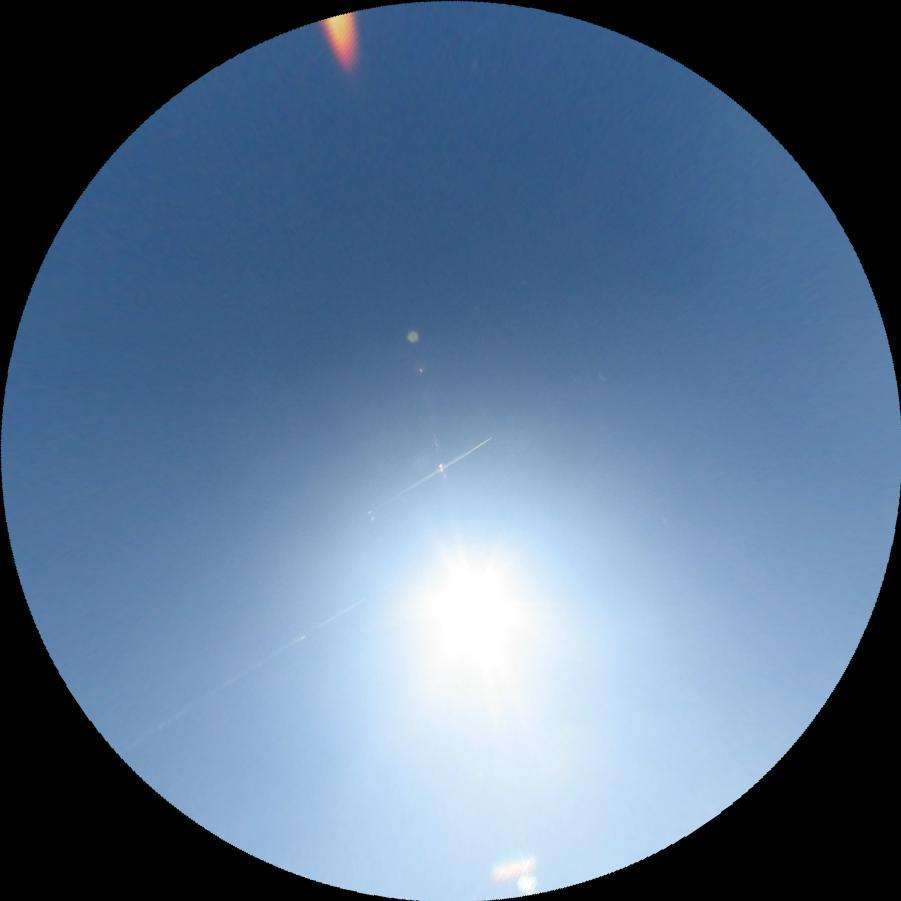contrail young: (398, 433, 494, 496)
parasite: (112, 591, 370, 756)
sun: (404, 546, 536, 682)
